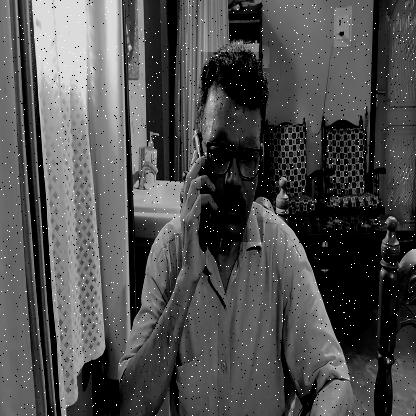Normal: (201, 52, 263, 242)
